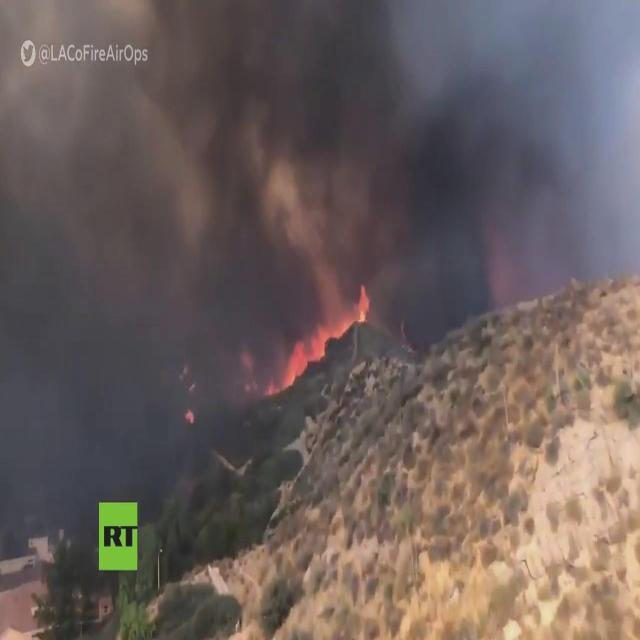Fire: (268, 291, 370, 394), (183, 407, 197, 426)
